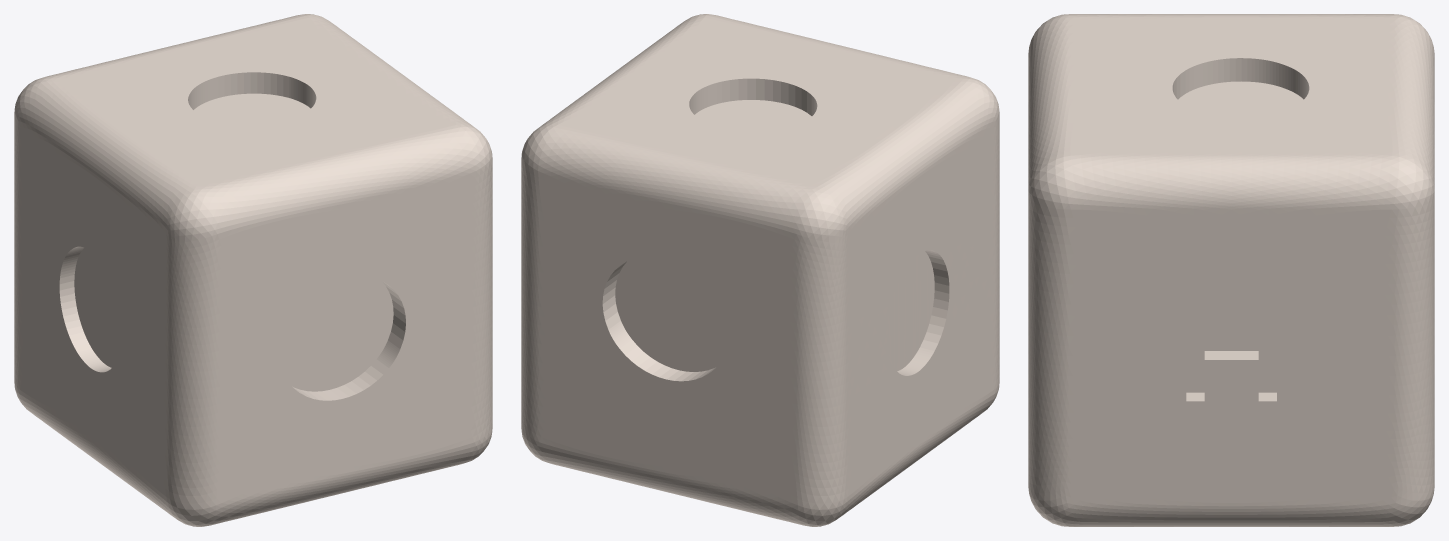
3 views of the same model, side by side, from view 1: azimuth 30°, elevation 25°; view 2: azimuth 150°, elevation 25°; view 3: azimuth 270°, elevation 25° (orthographic). The views are drawn at different scales.
Parts seen in each view (by area): view 1: Icosphere; view 2: Icosphere; view 3: Icosphere.
Part boxes in pixels (x1,y1,x2,y2): Icosphere: (14,14,492,526); Icosphere: (521,14,999,526); Icosphere: (1028,14,1434,526).
Size of the model in its own units: 250 by 250 by 250.
